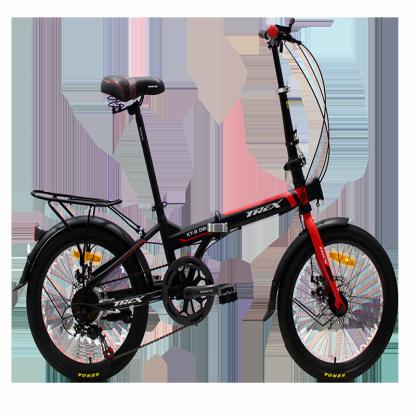Bike: (11, 15, 400, 388)
